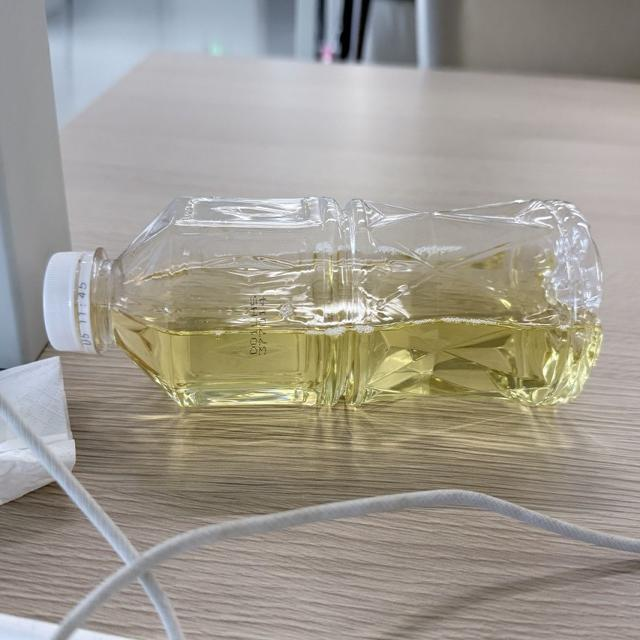medium: (44, 196, 602, 405)
